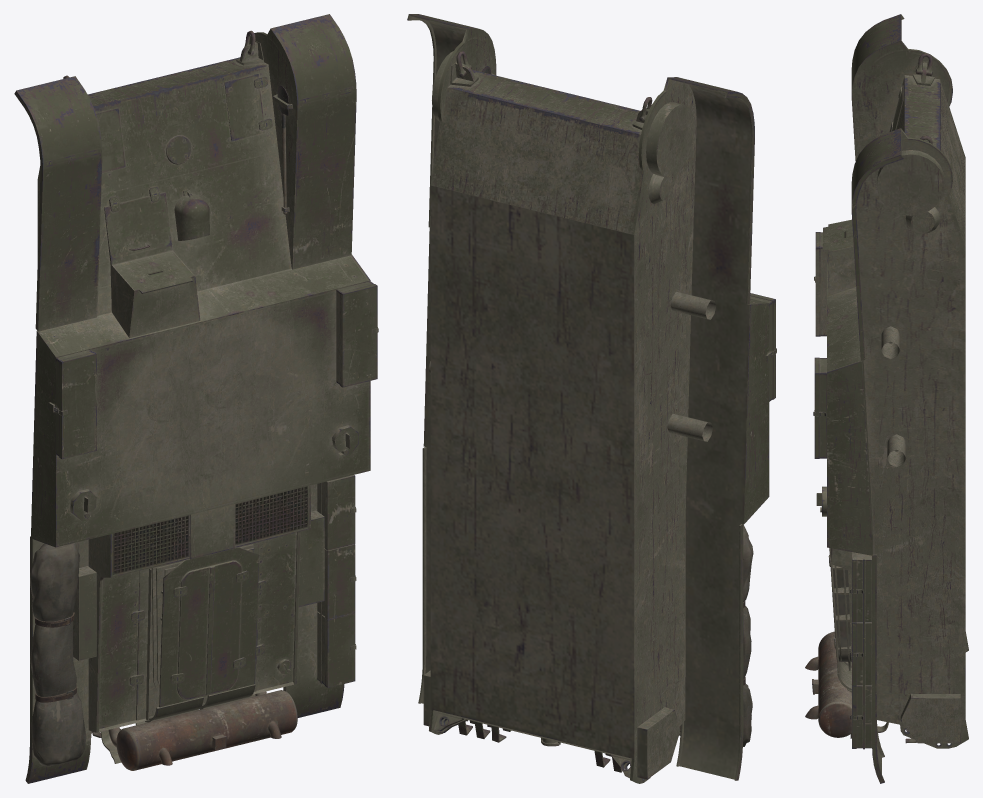
The model's file is Hull.glb.
3 views of the same model, side by side, from view 1: azimuth 30°, elevation 25°; view 2: azimuth 150°, elevation 25°; view 3: azimuth 270°, elevation 25° (orthographic). The views are drawn at different scales.
Parts seen in each view (by area): view 1: set_0_group_0; view 2: set_0_group_0; view 3: set_0_group_0.
Part boxes in pixels (x1,y1,x2,y2): set_0_group_0: [14, 14, 378, 783]; set_0_group_0: [407, 14, 776, 783]; set_0_group_0: [805, 14, 968, 783].
Bounding box in the file's own units: 2.77 × 5.66 × 1.33.
1 material, 1 textured.
